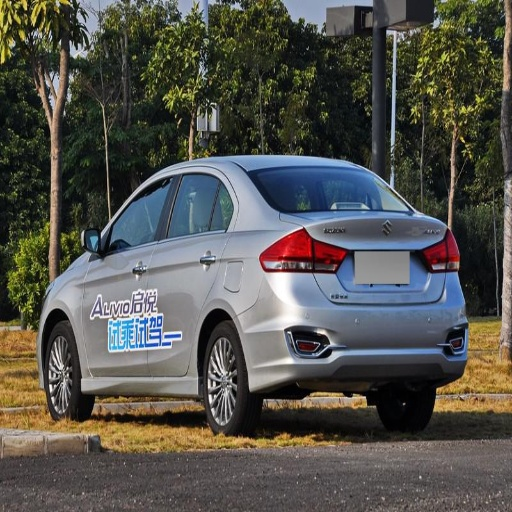back_bumper: (238, 272, 469, 385)
back_glass: (248, 165, 410, 212)
back_left_door: (147, 168, 234, 375)
tailgate: (307, 211, 444, 302)
